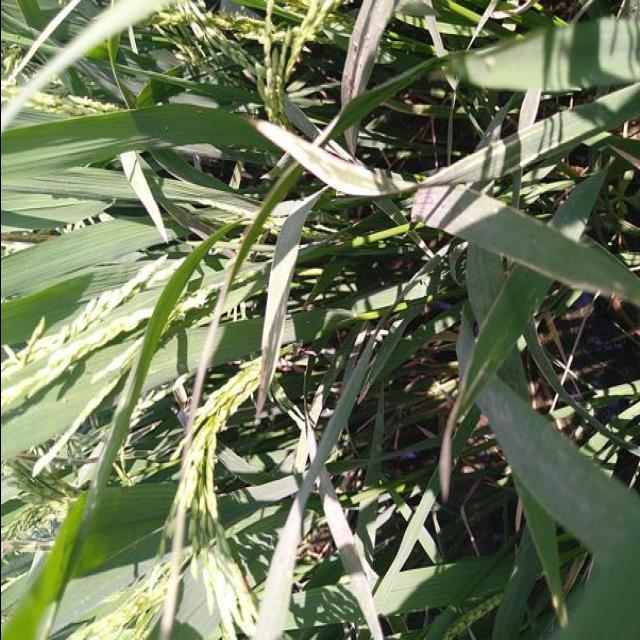Leaf Blight: (248, 118, 418, 197), (256, 269, 293, 418), (158, 200, 214, 241)
